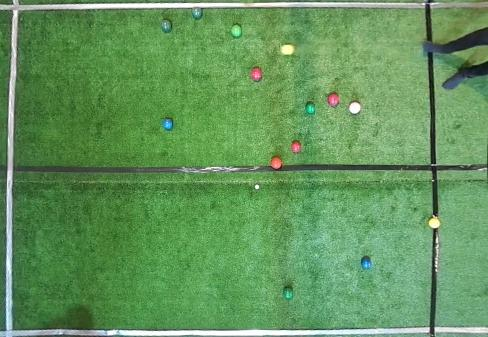blue: (163, 119, 173, 130), (361, 259, 371, 269)
green: (231, 25, 242, 37), (161, 20, 172, 32), (282, 288, 293, 299), (192, 7, 202, 19), (305, 103, 315, 114)
red: (327, 93, 339, 107), (251, 68, 262, 82), (348, 102, 360, 114), (271, 158, 282, 169), (291, 141, 301, 152)
vline: (427, 53, 487, 218), (0, 0, 21, 336), (429, 229, 487, 336), (425, 0, 487, 42)
white: (255, 184, 259, 189)
yellow: (280, 44, 294, 55), (428, 218, 441, 228)
